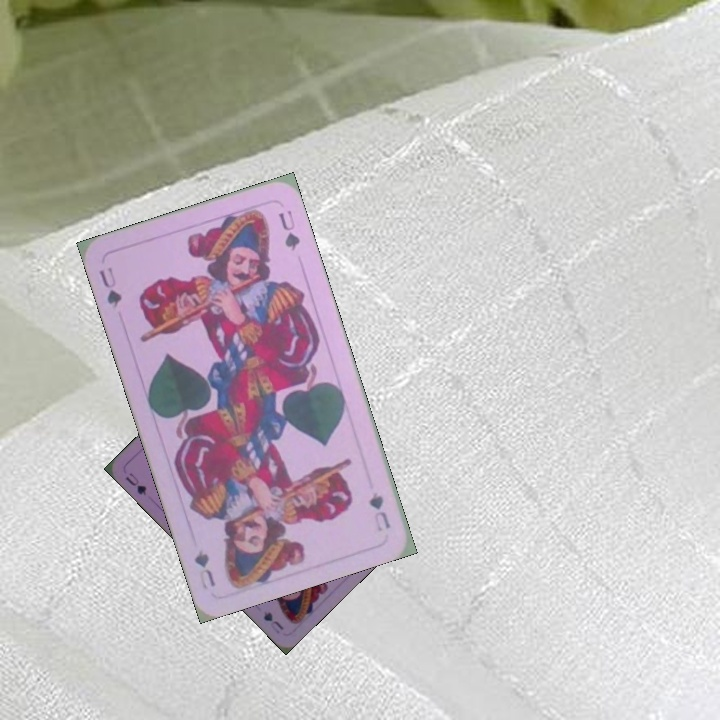GU: (95, 262, 125, 311), (365, 488, 393, 534), (121, 468, 149, 498)
